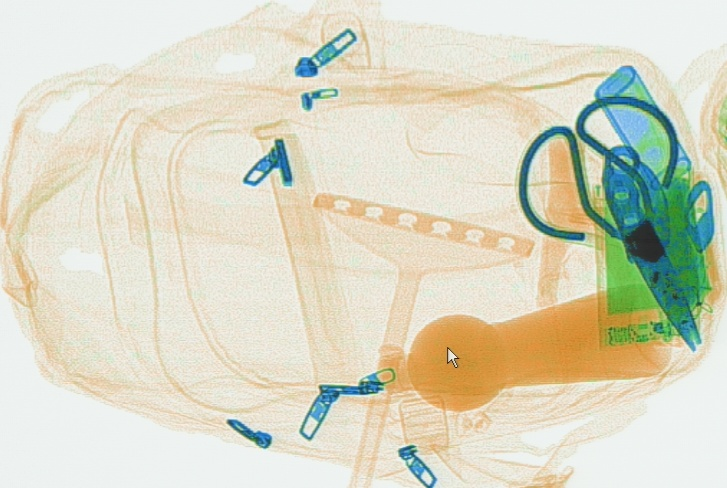knife: (601, 142, 676, 265)
scissors: (518, 97, 704, 354)
zippooil: (595, 61, 696, 189)
